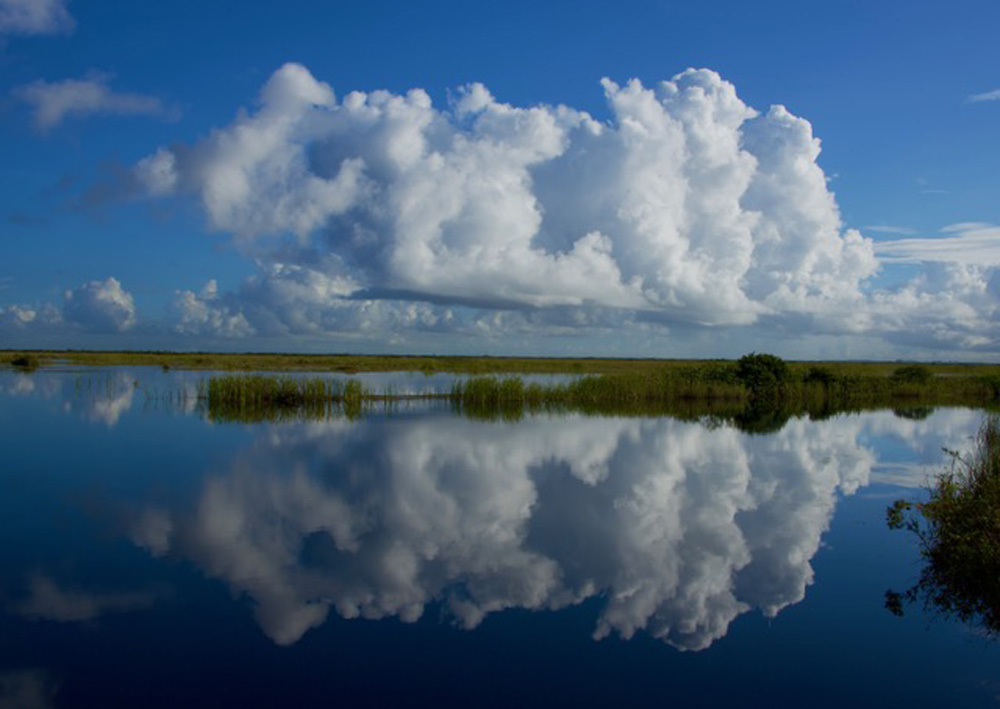Cumulus: (155, 54, 968, 333)
